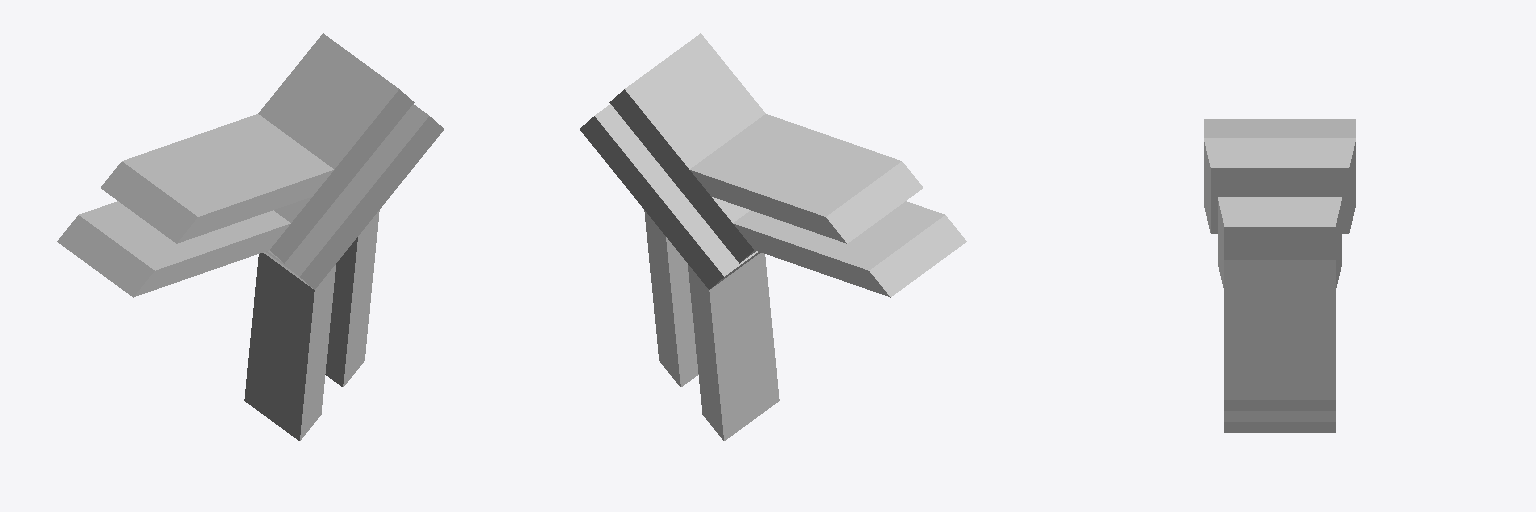
The model's file is GGJ Cells and Virus .obj.
3 views of the same model, side by side, from view 1: azimuth 30°, elevation 25°; view 2: azimuth 150°, elevation 25°; view 3: azimuth 270°, elevation 25° (orthographic).
Visible parts, largest first — view 1: Sphere.004_Sphere.006; view 2: Sphere.004_Sphere.006; view 3: Sphere.004_Sphere.006.
Part boxes in pixels (x1,y1,x2,y2): Sphere.004_Sphere.006: (57,33,443,440); Sphere.004_Sphere.006: (580,33,966,440); Sphere.004_Sphere.006: (1204,119,1355,432).
Size of the model in its own units: 1.22 by 1.22 by 0.5.